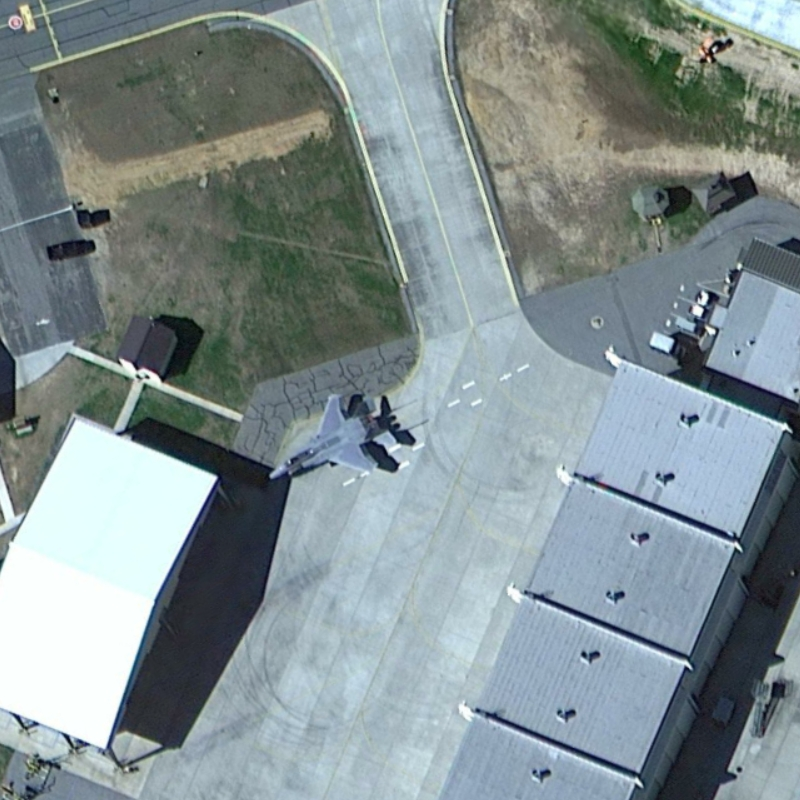A13: (264, 387, 403, 482)
